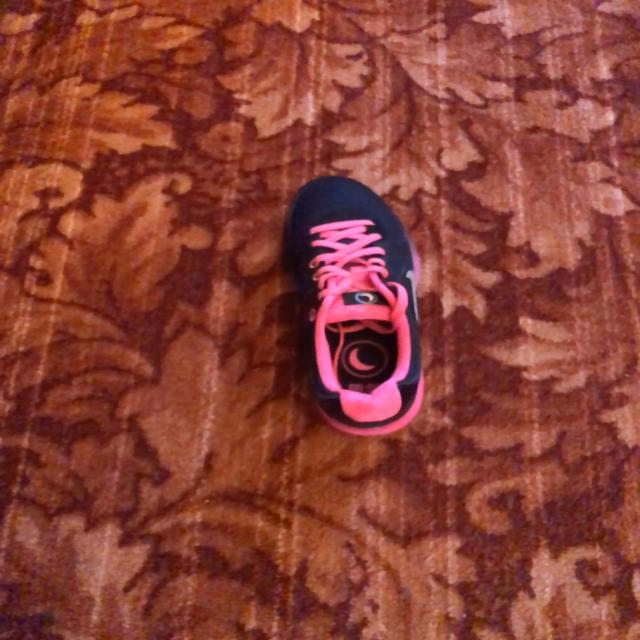shoe: (280, 175, 425, 433)
